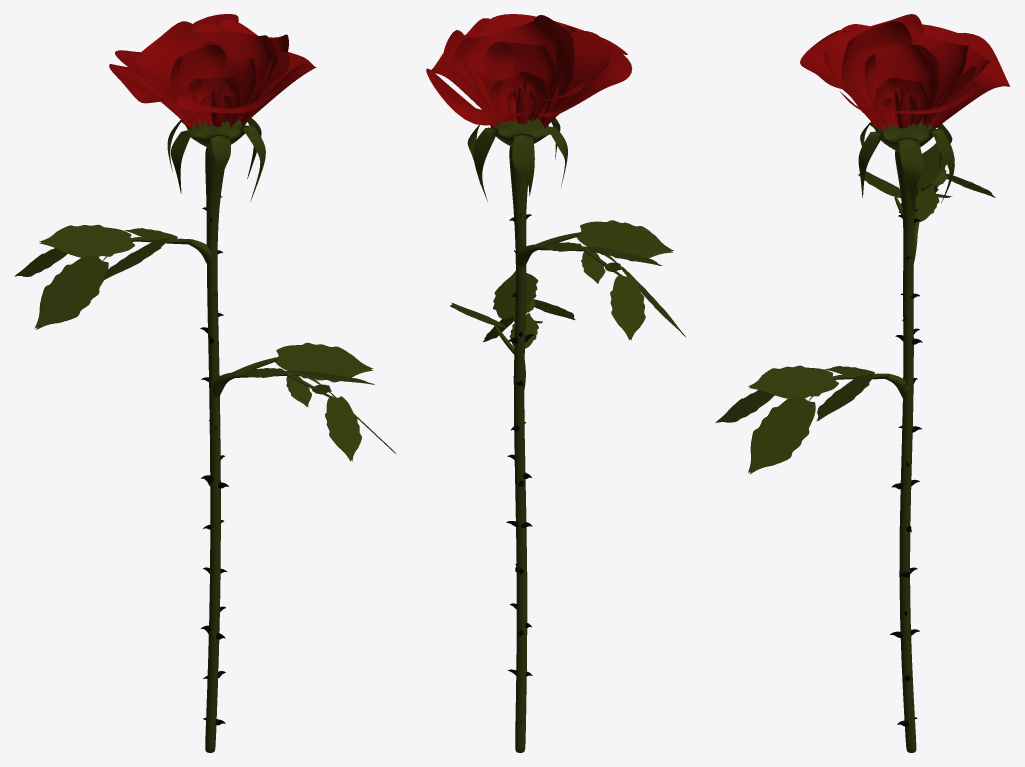
Rendered from rosa.glb.
The picture shows the model from 3 angles, left to right: view 1: azimuth 30°, elevation 25°; view 2: azimuth 150°, elevation 25°; view 3: azimuth 270°, elevation 25°; orthographic projection.
Visible parts, largest first — view 1: Object_6, Object_3, Object_5, Object_4, Object_2; view 2: Object_3, Object_6, Object_5, Object_4, Object_2; view 3: Object_3, Object_6, Object_5, Object_4, Object_2.
Part boxes in pixels (x1,y1,x2,y2): Object_6: (14, 118, 279, 752); Object_3: (109, 14, 316, 129); Object_5: (100, 228, 396, 461); Object_4: (100, 237, 336, 400); Object_2: (200, 196, 228, 725); Object_3: (426, 14, 632, 128); Object_6: (467, 118, 685, 752); Object_5: (450, 220, 673, 346); Object_4: (494, 232, 625, 389); Object_2: (506, 213, 534, 723); Object_3: (800, 14, 1010, 131); Object_6: (832, 122, 995, 752); Object_5: (715, 170, 952, 473); Object_4: (809, 174, 947, 400); Object_2: (890, 202, 922, 726).
Size of the model in its own units: 0.1689 by 0.4014 by 0.1508.
